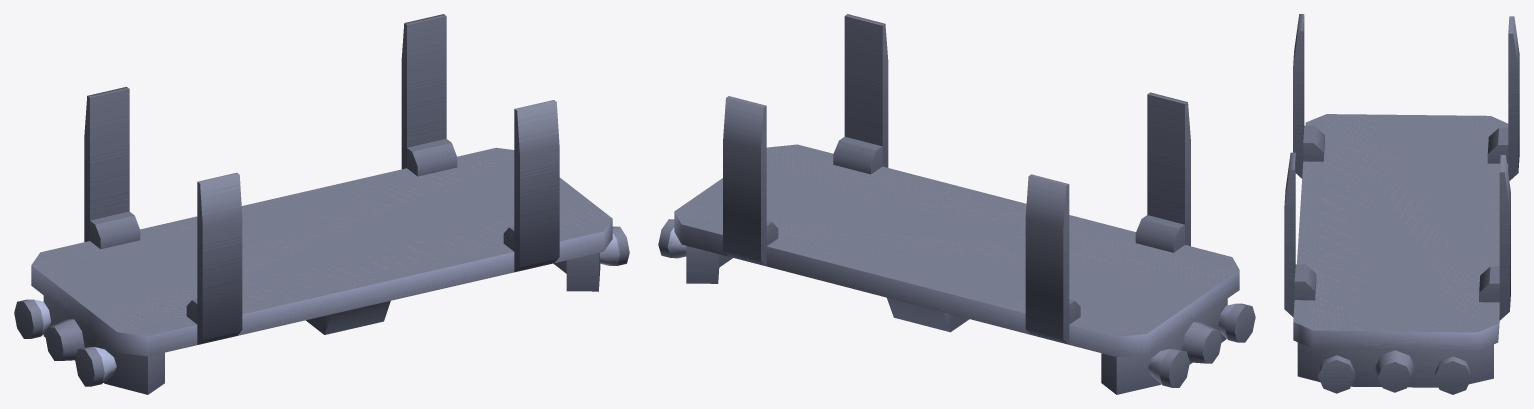
The model's file is train-carriage-lumber_lev2.glb.
3 renders of one model, left to right at view 1: azimuth 30°, elevation 25°; view 2: azimuth 150°, elevation 25°; view 3: azimuth 270°, elevation 25°, orthographic. The views are drawn at different scales.
Parts seen in each view (by area): view 1: train-carriage-lumber_lev2; view 2: train-carriage-lumber_lev2; view 3: train-carriage-lumber_lev2.
Boxes of the visible parts, x1,y1,x2,y2 form: train-carriage-lumber_lev2: [14, 14, 629, 394]; train-carriage-lumber_lev2: [658, 14, 1255, 394]; train-carriage-lumber_lev2: [1284, 14, 1519, 394].
Size of the model in its own units: 2.72 by 1 by 1.15.
Materials: 1 (1 with a texture image).
